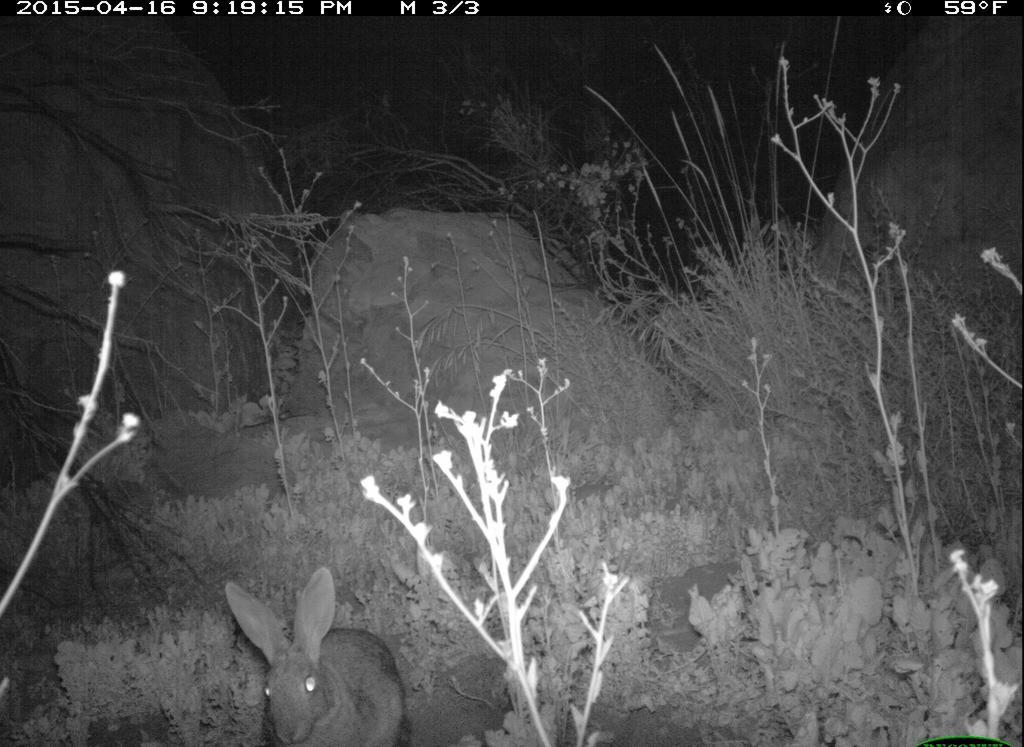rabbit: (212, 569, 429, 743)
